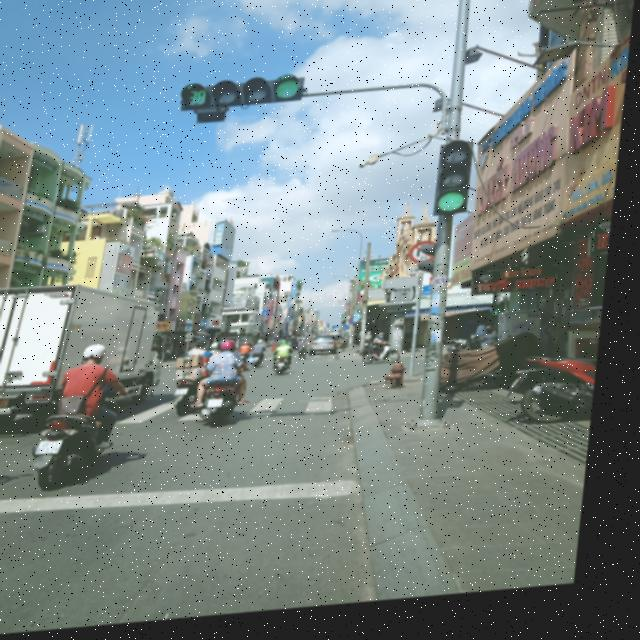Green: (205, 72, 317, 118), (431, 144, 487, 226)
